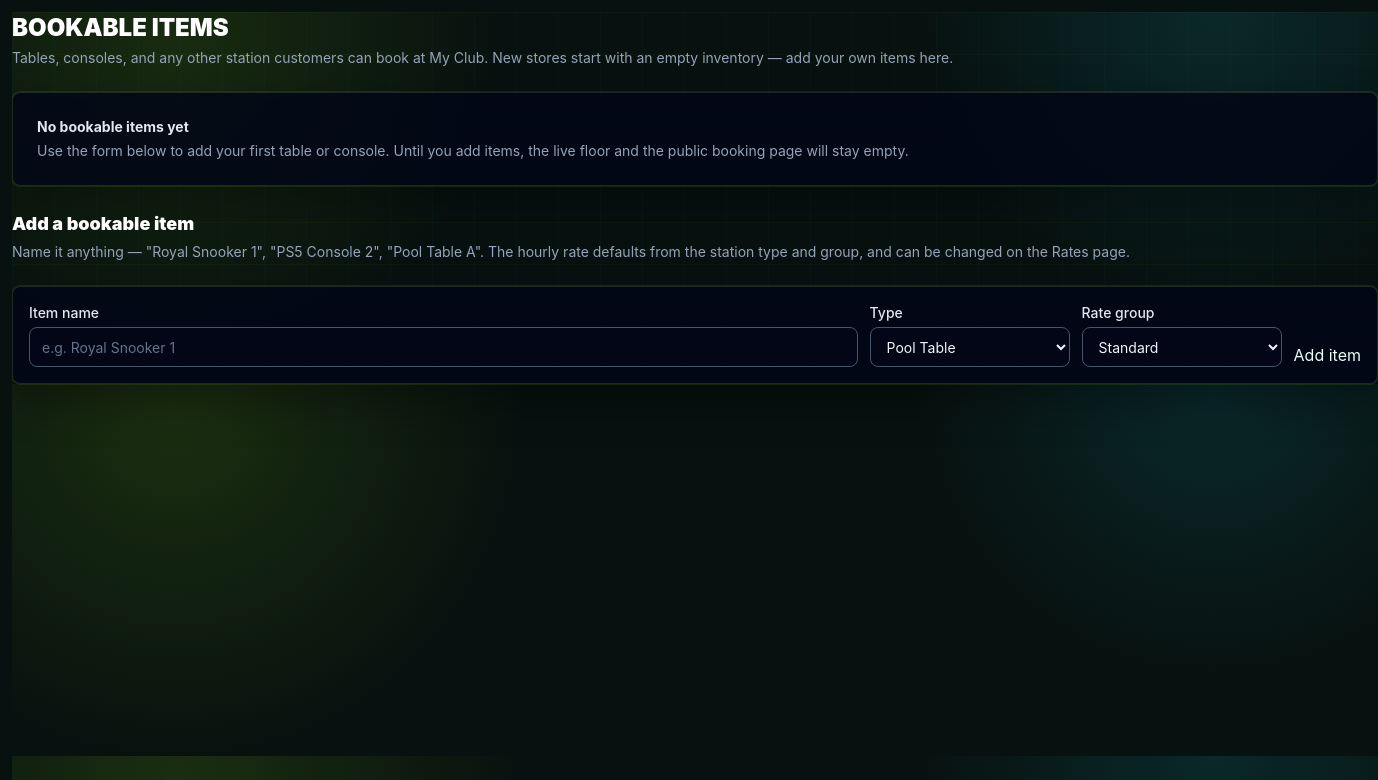
Test case: BookableItemsPage › shows danger snackbar on failure
In the field labelled "Item name": (443, 347) 29,327 -> 858,367, type "Duplicate"
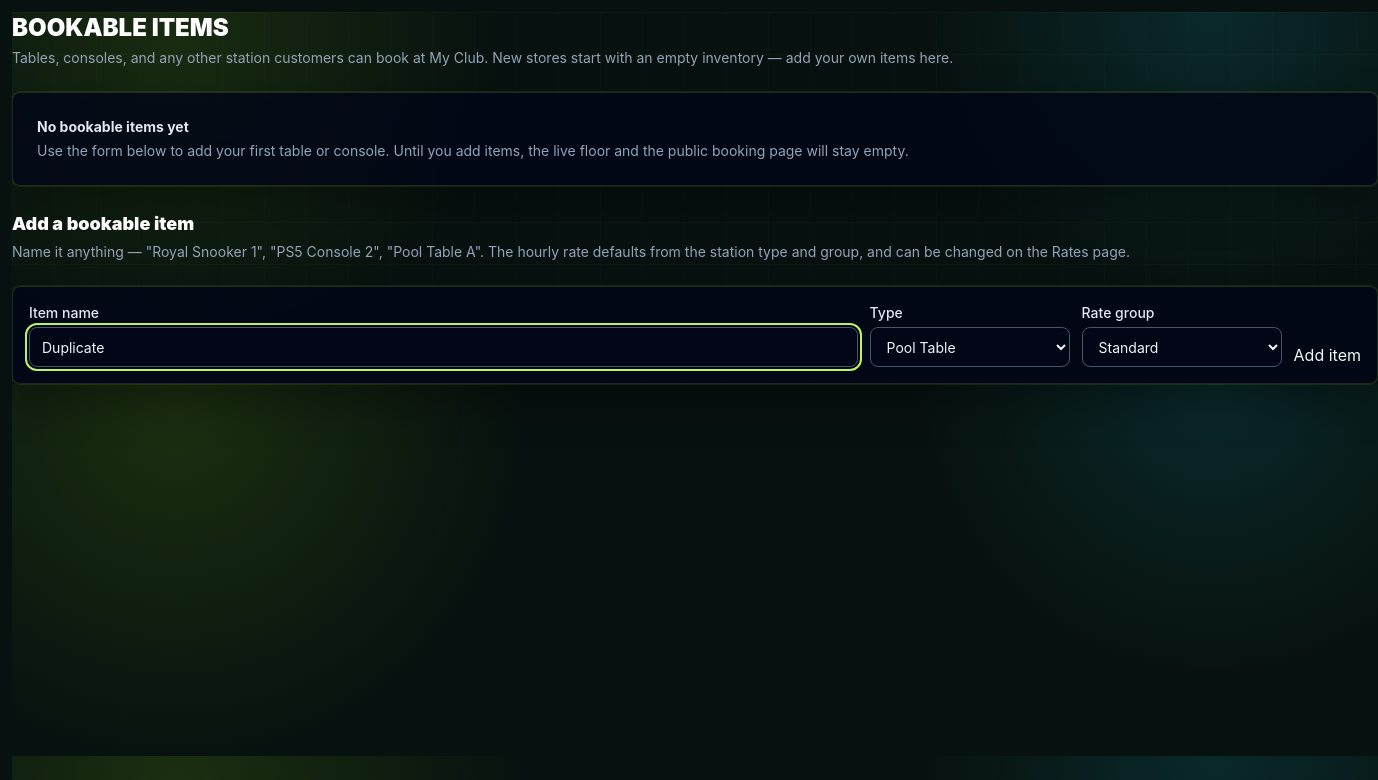
Click the button "Add item": (1327, 355) 1294,343 -> 1361,367
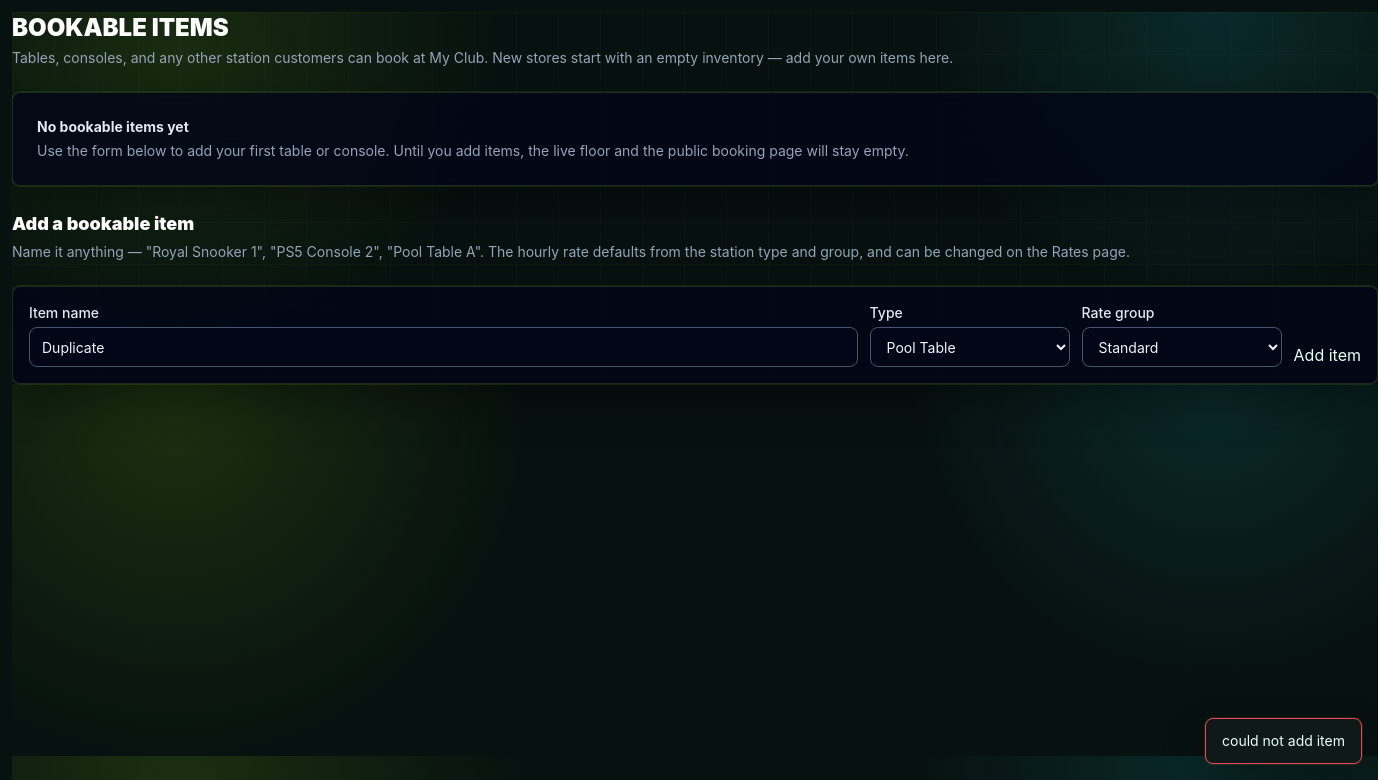
Expected: the text "could not add item" is shown, 1205,718 -> 1362,764
